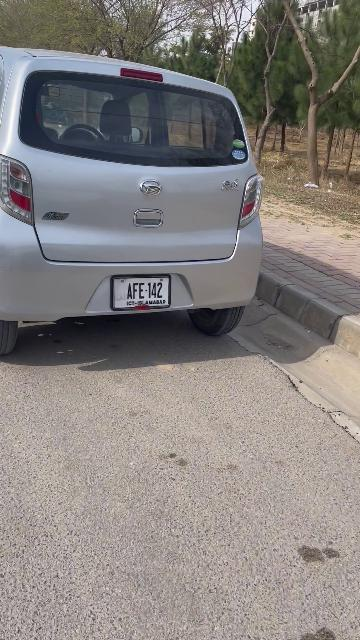plate: (112, 275, 169, 310)
